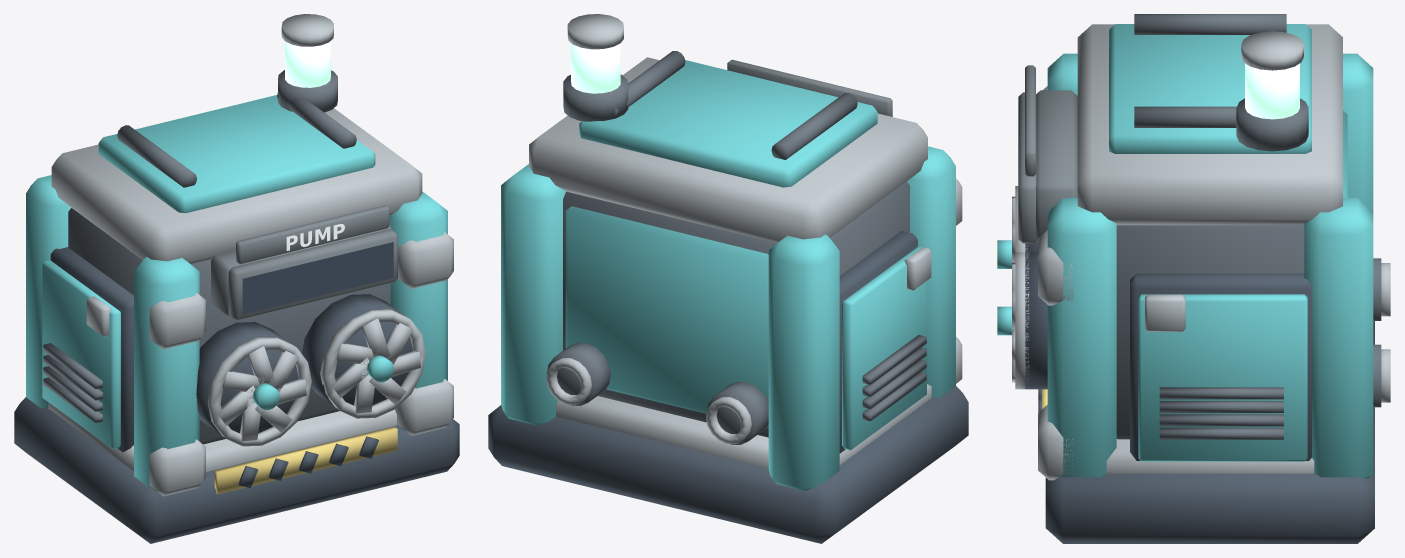
The model's file is pump_standard.glb.
3 renders of one model, left to right at view 1: azimuth 30°, elevation 25°; view 2: azimuth 150°, elevation 25°; view 3: azimuth 270°, elevation 25°, orthographic. The views are drawn at different scales.
Visible parts, largest first — view 1: Frame_cyan_legacy_4, Base_black_legacy_0, TopCap_steel_legacy_10, RoofPanel_cyan_legacy_11, CornerGuard_steel_legacy_5, FanBlade_steel_legacy_15, ServiceDoor_cyan_legacy_7, Fan_black_legacy_13, Housing_dark_legacy_2, FanGuard_steel_legacy_14, LiveViewSurface_glass, Skirt_steel_legacy_1 (+14 smaller); view 2: Frame_cyan_legacy_4, Armor_cyan_legacy_3, Base_black_legacy_0, TopCap_steel_legacy_10, RoofPanel_cyan_legacy_11, ServiceDoor_cyan_legacy_7, Housing_dark_legacy_2, Skirt_steel_legacy_1, RearPort_dark_legacy_26, LiftRail_dark_legacy_12, SideVents_dark_legacy_8, SidePanel_black_legacy_6 (+7 smaller); view 3: Frame_cyan_legacy_4, TopCap_steel_legacy_10, Base_black_legacy_0, ServiceDoor_cyan_legacy_7, RoofPanel_cyan_legacy_11, Housing_dark_legacy_2, SideVents_dark_legacy_8, SidePanel_black_legacy_6, LiftRail_dark_legacy_12, ScreenMount_frame, CornerGuard_steel_legacy_5, Skirt_steel_legacy_1 (+12 smaller).
Part boxes in pixels (left/top/right/bottom): Frame_cyan_legacy_4: left=26, top=175, right=447, bottom=491; Base_black_legacy_0: left=14, top=397, right=459, bottom=543; TopCap_steel_legacy_10: left=51, top=108, right=422, bottom=264; RoofPanel_cyan_legacy_11: left=98, top=95, right=375, bottom=213; CornerGuard_steel_legacy_5: left=146, top=232, right=453, bottom=496; FanBlade_steel_legacy_15: left=218, top=318, right=420, bottom=441; ServiceDoor_cyan_legacy_7: left=42, top=260, right=120, bottom=449; Fan_black_legacy_13: left=196, top=294, right=412, bottom=435; Housing_dark_legacy_2: left=68, top=208, right=390, bottom=444; FanGuard_steel_legacy_14: left=207, top=308, right=425, bottom=446; LiveViewSurface_glass: left=242, top=242, right=393, bottom=314; Skirt_steel_legacy_1: left=48, top=402, right=396, bottom=471; Frame_cyan_legacy_4: left=501, top=146, right=955, bottom=490; Armor_cyan_legacy_3: left=565, top=206, right=768, bottom=428; Base_black_legacy_0: left=488, top=386, right=968, bottom=543; TopCap_steel_legacy_10: left=529, top=57, right=927, bottom=242; RoofPanel_cyan_legacy_11: left=579, top=60, right=877, bottom=187; ServiceDoor_cyan_legacy_7: left=842, top=246, right=926, bottom=450; Housing_dark_legacy_2: left=563, top=181, right=909, bottom=437; Skirt_steel_legacy_1: left=556, top=384, right=931, bottom=468; RearPort_dark_legacy_26: left=546, top=343, right=768, bottom=444; LiftRail_dark_legacy_12: left=615, top=51, right=857, bottom=159; SideVents_dark_legacy_8: left=862, top=335, right=926, bottom=421; SidePanel_black_legacy_6: left=839, top=231, right=917, bottom=453; Frame_cyan_legacy_4: left=1047, top=53, right=1373, bottom=478; TopCap_steel_legacy_10: left=1077, top=24, right=1342, bottom=225; Base_black_legacy_0: left=1045, top=321, right=1374, bottom=543; ServiceDoor_cyan_legacy_7: left=1138, top=294, right=1307, bottom=461; RoofPanel_cyan_legacy_11: left=1109, top=24, right=1311, bottom=153; Housing_dark_legacy_2: left=1116, top=225, right=1304, bottom=439; SideVents_dark_legacy_8: left=1159, top=387, right=1283, bottom=439; SidePanel_black_legacy_6: left=1130, top=273, right=1311, bottom=460; LiftRail_dark_legacy_12: left=1134, top=14, right=1286, bottom=127; ScreenMount_frame: left=1035, top=90, right=1077, bottom=242; CornerGuard_steel_legacy_5: left=1038, top=86, right=1073, bottom=480; Skirt_steel_legacy_1: left=1106, top=439, right=1314, bottom=473.
Size of the model in its own units: 1.43 by 1.65 by 1.25.
